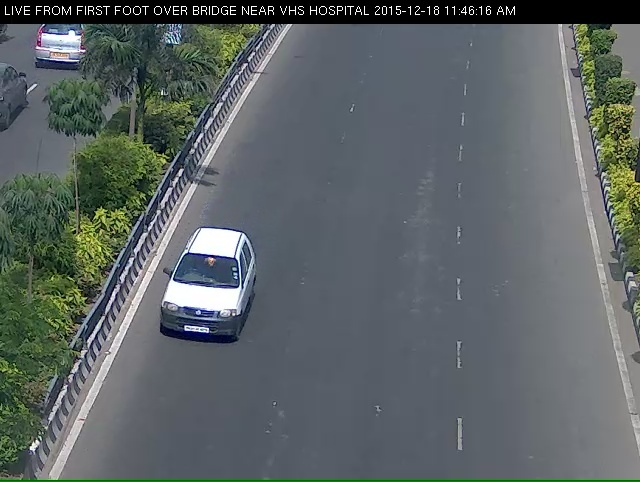Car: (147, 248, 261, 372)
